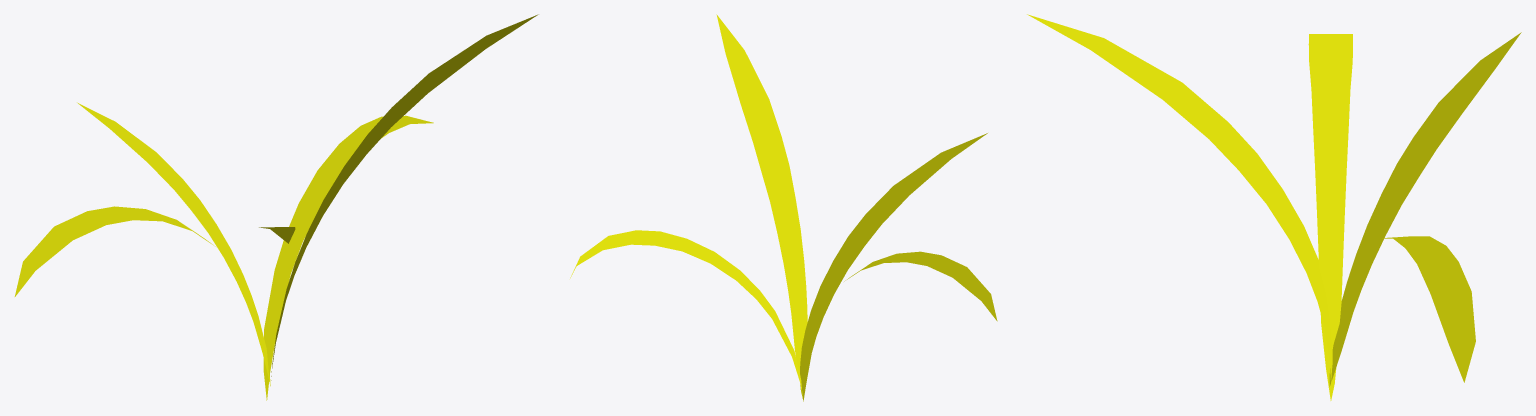
File: Grass3.glb
3 views of the same model, side by side, from view 1: azimuth 30°, elevation 25°; view 2: azimuth 150°, elevation 25°; view 3: azimuth 270°, elevation 25° (orthographic). The views are drawn at different scales.
Parts seen in each view (by area): view 1: polySurface860; view 2: polySurface860; view 3: polySurface860.
Boxes of the visible parts, x1=… form: polySurface860: x1=14, y1=14, x2=538, y2=400; polySurface860: x1=570, y1=14, x2=997, y2=401; polySurface860: x1=1027, y1=14, x2=1521, y2=400.
Size of the model in its own units: 0.874 by 0.6659 by 0.6462.
Materials: 1 (1 with a texture image).
